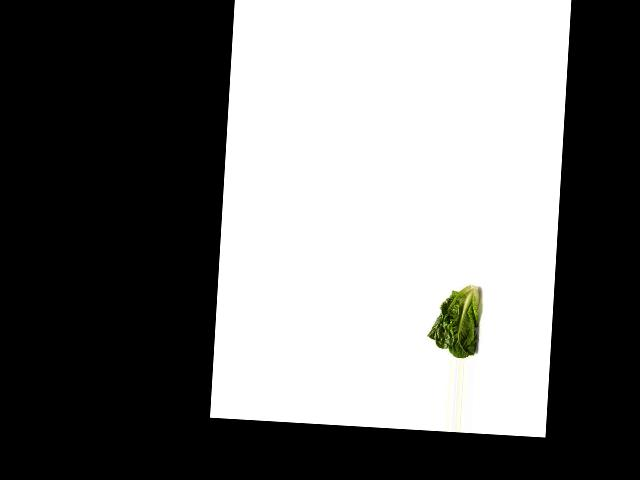lettuce: (426, 279, 492, 359)
